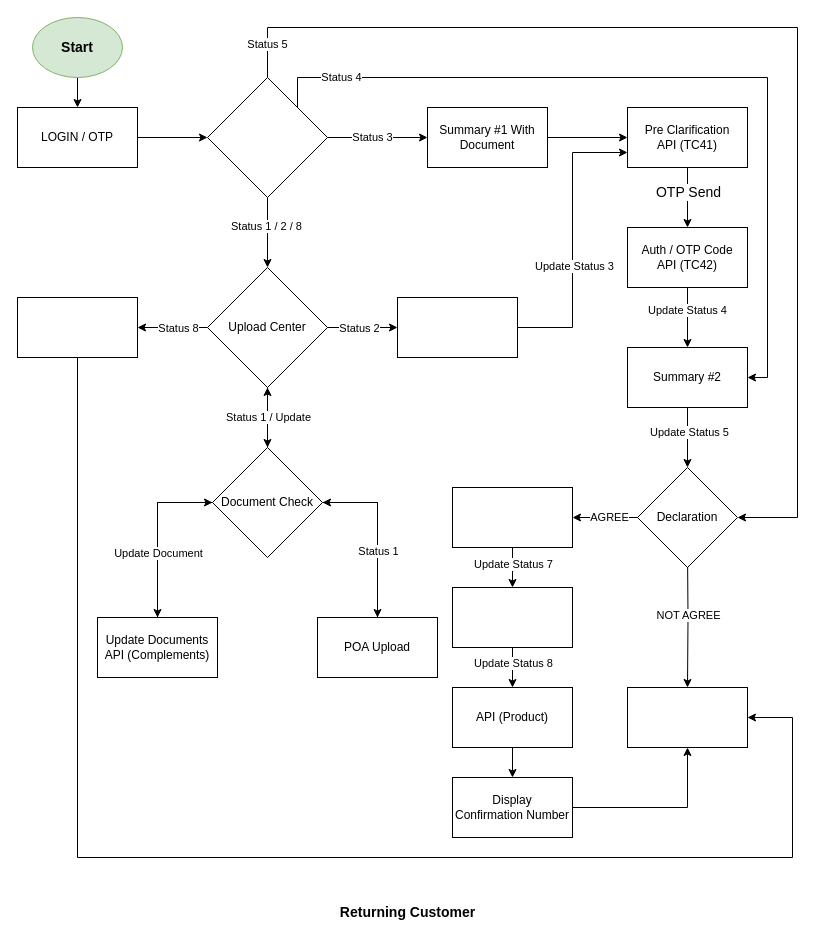
This 823x945 diagram has some shape labels left out. The shapes that lost their labels are listed below. From the top down, each one's centre as x and y in pixels, then its label:
At point (267, 137): "Welcome".
At point (77, 327): "Full Summary View".
At point (457, 327): "Summary #1".
At point (512, 517): "API (TC43)".
At point (512, 617): "API (TC44)".
At point (687, 717): "Good Bye".
